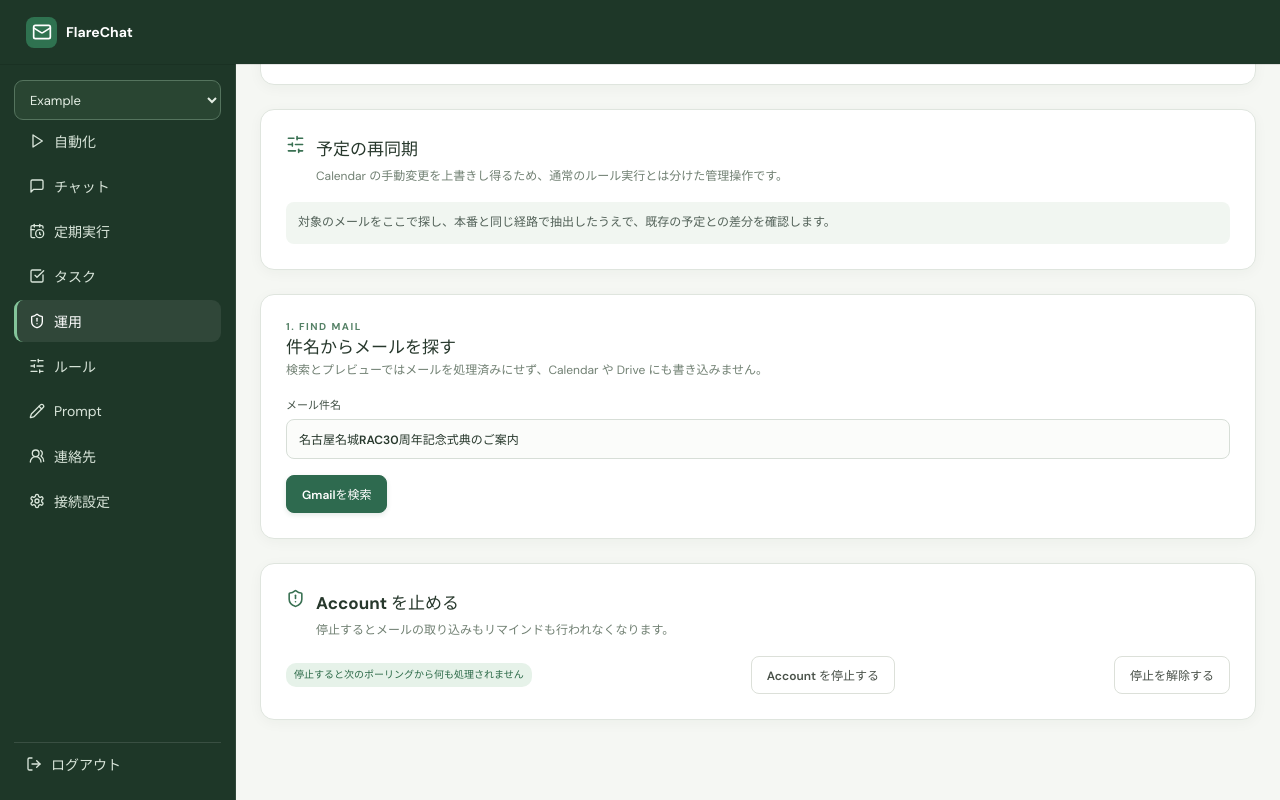
Test: Operations screen › finds the message for an Event Refresh on its own, without another screen
The width and height of the screenshot is (1280, 800).
(page scrolled)
Click the button "Gmailを検索" at coordinates (337, 494), box [286,475,388,513]
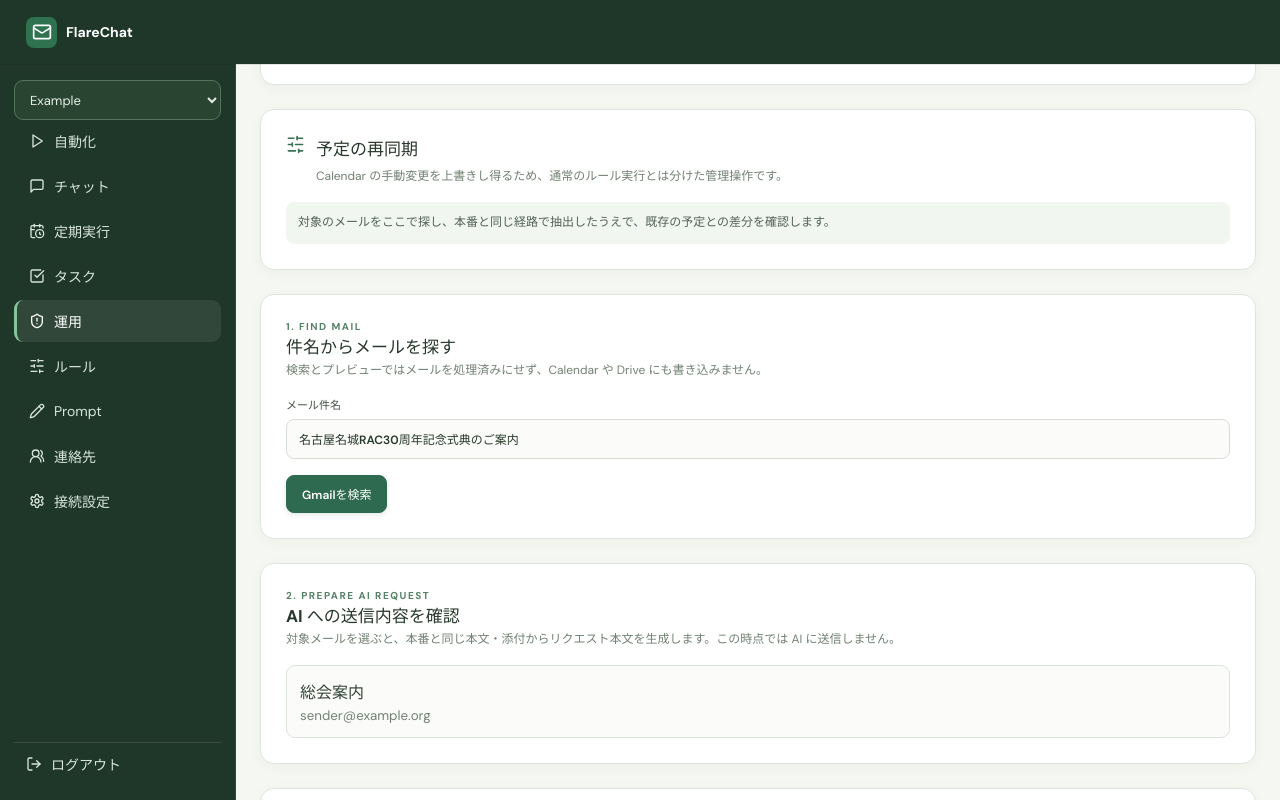
Result: the button "総会案内 sender@example.org" is shown at [286,665,1230,738]
